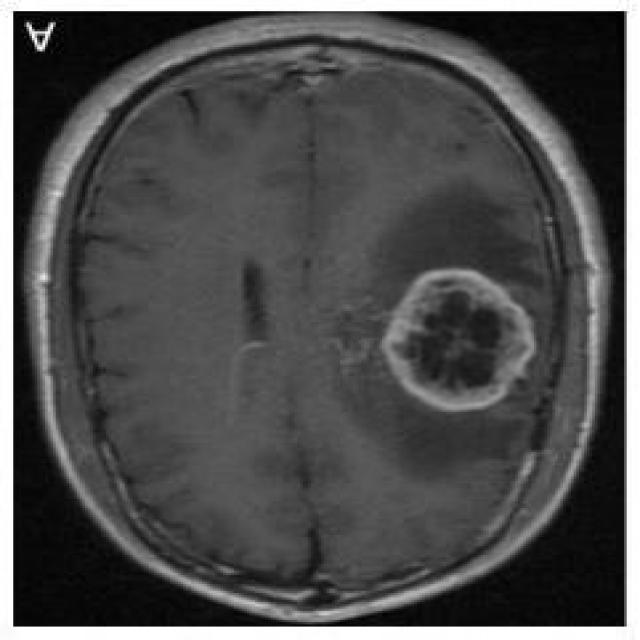Tumor: (382, 266, 534, 409)
